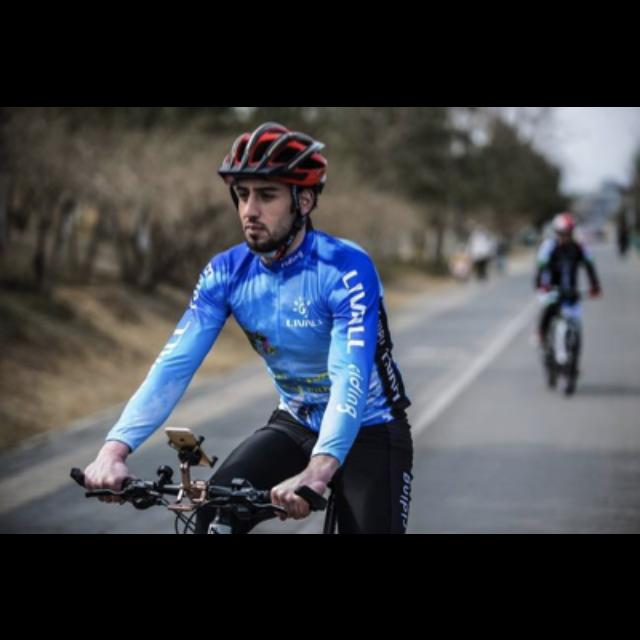With Helmet: (218, 119, 328, 249)
